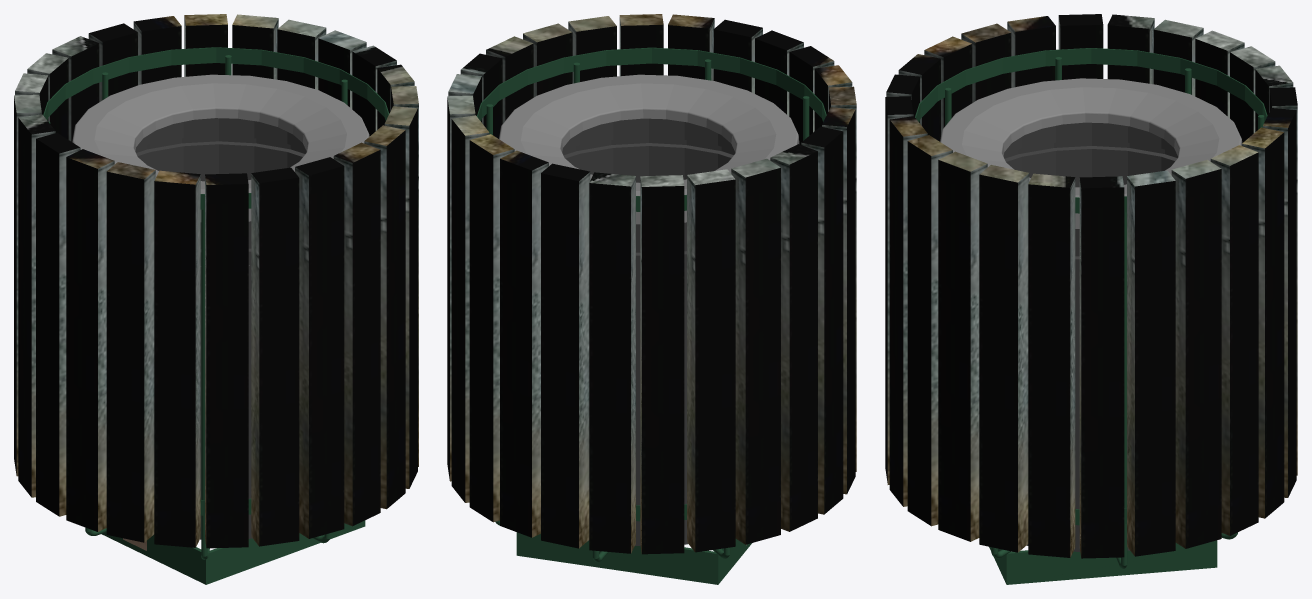
The picture shows the model from 3 angles, left to right: view 1: azimuth 30°, elevation 25°; view 2: azimuth 150°, elevation 25°; view 3: azimuth 270°, elevation 25°; orthographic projection.
Visible parts, largest first — view 1: mesh133.001_mesh133-geometry, mesh135.001_mesh135-geometry, mesh131.001_mesh131-geometry, mesh136.001_mesh136-geometry, mesh134.001_mesh134-geometry, mesh130.001_mesh130-geometry, mesh94.001_mesh94-geometry, mesh137.001_mesh137-geometry, mesh132.001_mesh132-geometry, mesh138.001_mesh138-geometry, mesh1.001_mesh1-geometry, mesh109.001_mesh109-geometry (+18 smaller); view 2: mesh123.001_mesh123-geometry, mesh126.001_mesh126-geometry, mesh125.001_mesh125-geometry, mesh128.001_mesh128-geometry, mesh124.001_mesh124-geometry, mesh94.001_mesh94-geometry, mesh119.001_mesh119-geometry, mesh109.001_mesh109-geometry, mesh127.001_mesh127-geometry, mesh1.001_mesh1-geometry, mesh132.001_mesh132-geometry, mesh129.001_mesh129-geometry (+16 smaller); view 3: mesh140.001_mesh140-geometry, mesh111.001_mesh111-geometry, mesh121.001_mesh121-geometry, mesh122.001_mesh122-geometry, mesh120.001_mesh120-geometry, mesh139.001_mesh139-geometry, mesh94.001_mesh94-geometry, mesh129.001_mesh129-geometry, mesh138.001_mesh138-geometry, mesh127.001_mesh127-geometry, mesh1.001_mesh1-geometry, mesh137.001_mesh137-geometry (+17 smaller).
Boxes of the visible parts, bbox=[...] form: mesh133.001_mesh133-geometry: bbox=[106, 162, 155, 542]; mesh135.001_mesh135-geometry: bbox=[251, 167, 299, 546]; mesh131.001_mesh131-geometry: bbox=[154, 170, 200, 547]; mesh136.001_mesh136-geometry: bbox=[295, 157, 344, 538]; mesh134.001_mesh134-geometry: bbox=[205, 173, 248, 548]; mesh130.001_mesh130-geometry: bbox=[66, 149, 114, 531]; mesh94.001_mesh94-geometry: bbox=[72, 74, 369, 221]; mesh137.001_mesh137-geometry: bbox=[333, 142, 380, 526]; mesh132.001_mesh132-geometry: bbox=[36, 133, 80, 516]; mesh138.001_mesh138-geometry: bbox=[364, 125, 405, 509]; mesh1.001_mesh1-geometry: bbox=[135, 118, 306, 539]; mesh109.001_mesh109-geometry: bbox=[18, 114, 55, 497]; mesh123.001_mesh123-geometry: bbox=[541, 163, 590, 548]; mesh126.001_mesh126-geometry: bbox=[687, 169, 735, 552]; mesh125.001_mesh125-geometry: bbox=[589, 172, 635, 553]; mesh128.001_mesh128-geometry: bbox=[731, 158, 780, 544]; mesh124.001_mesh124-geometry: bbox=[640, 175, 684, 554]; mesh94.001_mesh94-geometry: bbox=[499, 74, 799, 224]; mesh119.001_mesh119-geometry: bbox=[500, 150, 548, 537]; mesh109.001_mesh109-geometry: bbox=[770, 144, 817, 531]; mesh127.001_mesh127-geometry: bbox=[469, 134, 514, 522]; mesh1.001_mesh1-geometry: bbox=[562, 118, 735, 545]; mesh132.001_mesh132-geometry: bbox=[801, 126, 843, 514]; mesh129.001_mesh129-geometry: bbox=[451, 115, 489, 502]; mesh140.001_mesh140-geometry: bbox=[979, 165, 1029, 552]; mesh111.001_mesh111-geometry: bbox=[1127, 170, 1175, 556]; mesh121.001_mesh121-geometry: bbox=[1028, 173, 1075, 557]; mesh122.001_mesh122-geometry: bbox=[1171, 159, 1221, 548]; mesh120.001_mesh120-geometry: bbox=[1079, 176, 1124, 558]; mesh139.001_mesh139-geometry: bbox=[938, 151, 987, 541]; mesh94.001_mesh94-geometry: bbox=[940, 78, 1242, 228]; mesh129.001_mesh129-geometry: bbox=[1210, 145, 1258, 535]; mesh138.001_mesh138-geometry: bbox=[907, 135, 952, 526]; mesh127.001_mesh127-geometry: bbox=[1242, 127, 1284, 518]; mesh1.001_mesh1-geometry: bbox=[1003, 122, 1177, 551]; mesh137.001_mesh137-geometry: bbox=[889, 116, 927, 506].
Size of the model in its own units: 0.5484 by 0.6314 by 0.5484.
